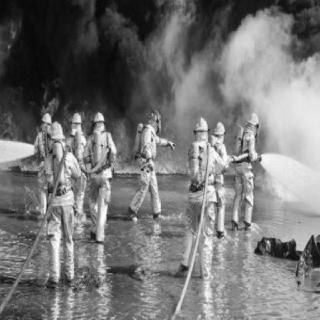Fire: (0, 107, 36, 167), (154, 105, 184, 171), (111, 118, 140, 172), (158, 1, 200, 24), (227, 131, 235, 177)
Smoke: (0, 2, 160, 108), (200, 1, 318, 58), (156, 24, 222, 99)
